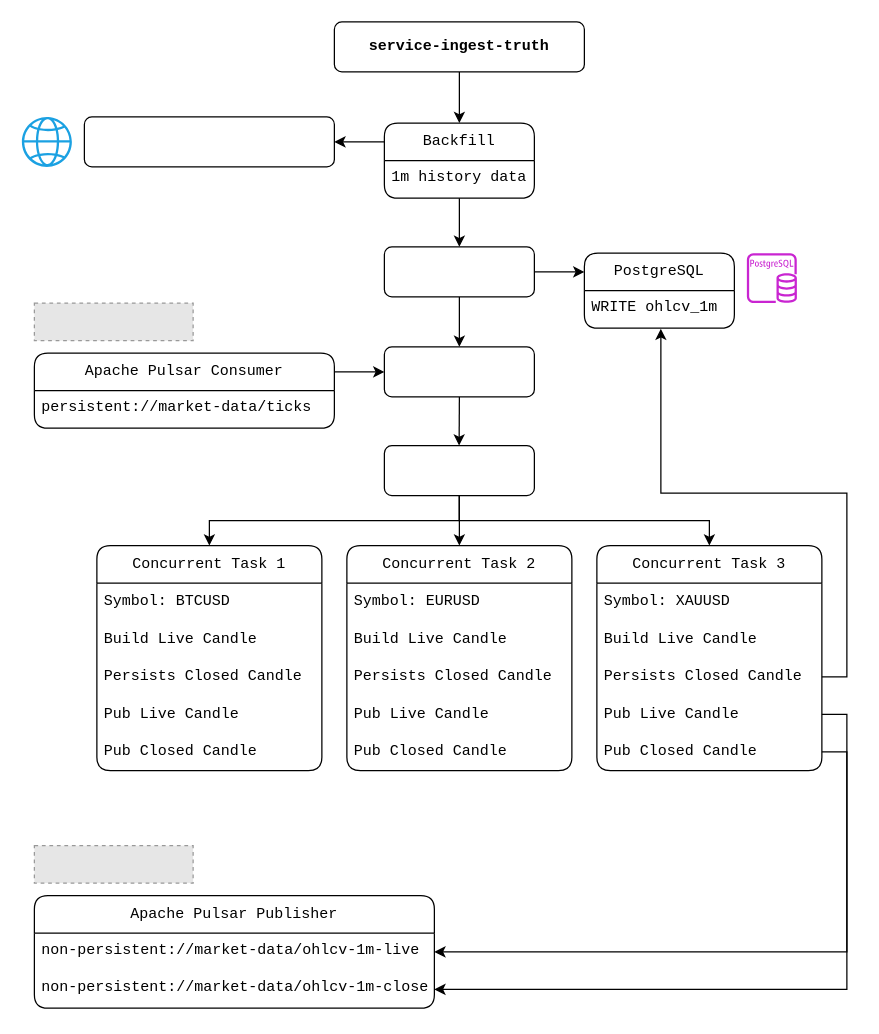
This 879x1034 diagram has some shape labels left out. Grey dashed boxes stand in for pictures. Each missing label, with the centre of its shape:
"Comsumer" belongs at [458,371].
"Dispatcher (mpsc)" belongs at [458,470].
"https://external-data-provider" belongs at [208,141].
"Normalization" belongs at [458,271].
